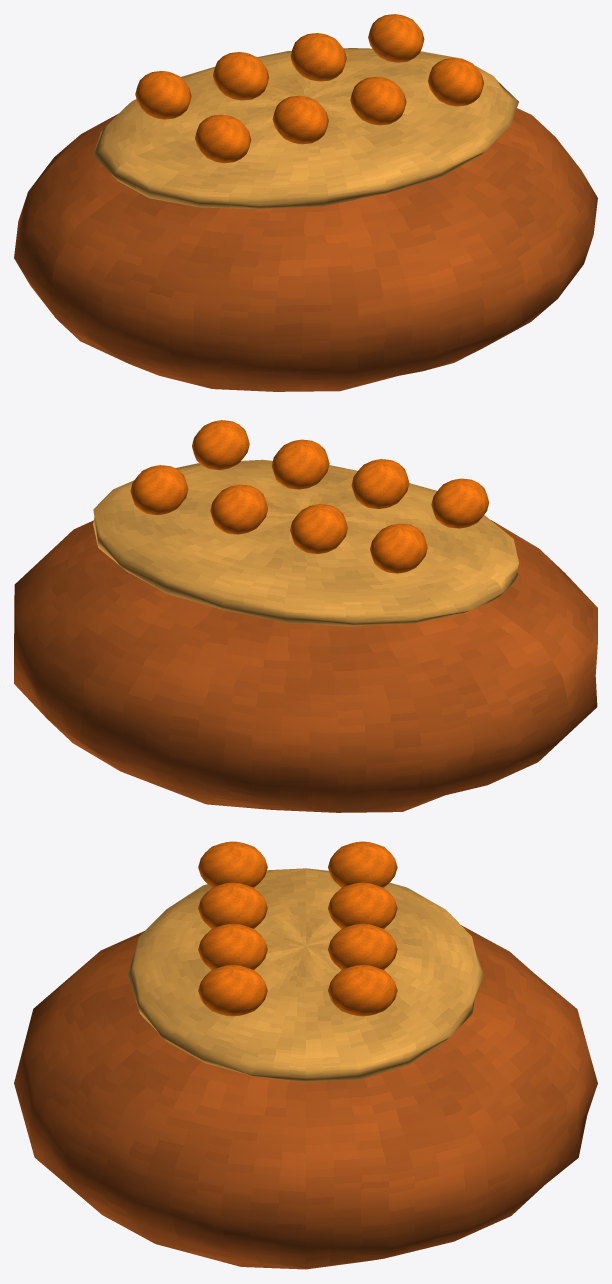
The model's file is bread_corn_mayo.glb.
3 renders of one model, top to bottom at view 1: azimuth 30°, elevation 25°; view 2: azimuth 150°, elevation 25°; view 3: azimuth 270°, elevation 25°, orthographic. The views are drawn at different scales.
Parts seen in each view (by area): view 1: ふっくらした生地.003, 具材を載せるくぼみ.003, つぶつぶコーン.008, つぶつぶコーン.009, つぶつぶコーン.012, つぶつぶコーン.010, つぶつぶコーン.015, つぶつぶコーン.011, つぶつぶコーン.014, つぶつぶコーン.013; view 2: ふっくらした生地.003, 具材を載せるくぼみ.003, つぶつぶコーン.008, つぶつぶコーン.014, つぶつぶコーン.009, つぶつぶコーン.013, つぶつぶコーン.015, つぶつぶコーン.010, つぶつぶコーン.012, つぶつぶコーン.011; view 3: ふっくらした生地.003, 具材を載せるくぼみ.003, つぶつぶコーン.015, つぶつぶコーン.014, つぶつぶコーン.009, つぶつぶコーン.008, つぶつぶコーン.012, つぶつぶコーン.011, つぶつぶコーン.013, つぶつぶコーン.010.
Part boxes in pixels (x1,y1,x2,y2): ふっくらした生地.003: (14, 108, 597, 391); 具材を載せるくぼみ.003: (93, 48, 518, 209); つぶつぶコーン.008: (195, 114, 251, 163); つぶつぶコーン.009: (135, 71, 191, 119); つぶつぶコーン.012: (350, 76, 406, 125); つぶつぶコーン.010: (272, 95, 328, 144); つぶつぶコーン.015: (368, 14, 424, 62); つぶつぶコーン.011: (213, 52, 269, 100); つぶつぶコーン.014: (428, 58, 483, 106); つぶつぶコーン.013: (290, 33, 346, 81); ふっくらした生地.003: (14, 520, 597, 812); 具材を載せるくぼみ.003: (93, 459, 518, 626); つぶつぶコーン.008: (431, 478, 489, 528); つぶつぶコーン.014: (192, 420, 249, 470); つぶつぶコーン.009: (370, 523, 427, 573); つぶつぶコーン.013: (210, 484, 267, 534); つぶつぶコーン.015: (130, 465, 188, 515); つぶつぶコーン.010: (351, 459, 409, 508); つぶつぶコーン.012: (271, 439, 329, 489); つぶつぶコーン.011: (290, 504, 347, 553); ふっくらした生地.003: (14, 925, 597, 1269); 具材を載せるくぼみ.003: (127, 868, 484, 1082); つぶつぶコーン.015: (328, 965, 397, 1016); つぶつぶコーン.014: (198, 965, 267, 1016); つぶつぶコーン.009: (328, 841, 397, 887); つぶつぶコーン.008: (198, 841, 267, 887); つぶつぶコーン.012: (198, 923, 267, 969); つぶつぶコーン.011: (328, 882, 397, 928); つぶつぶコーン.013: (328, 923, 397, 969); つぶつぶコーン.010: (198, 882, 267, 928).
Bounding box in the file's own units: 0.7929 × 0.411 × 0.72.
3 materials, 3 textured.
